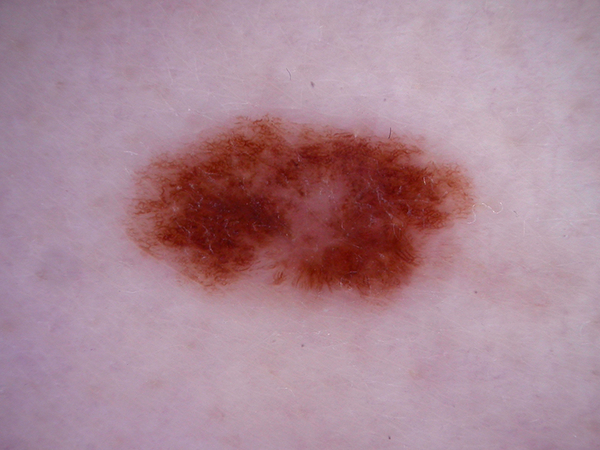Detected Lesion: (121, 114, 480, 311)
